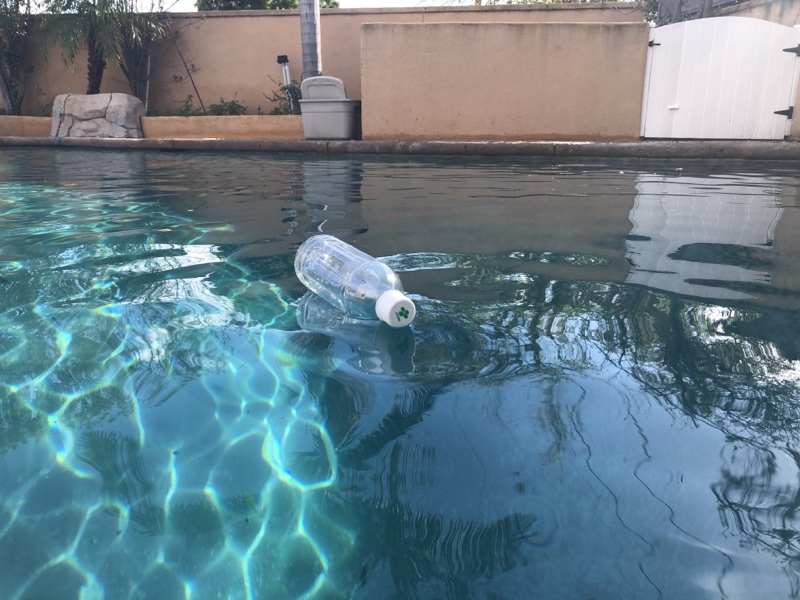Plastic Bottle: (294, 232, 416, 332)
